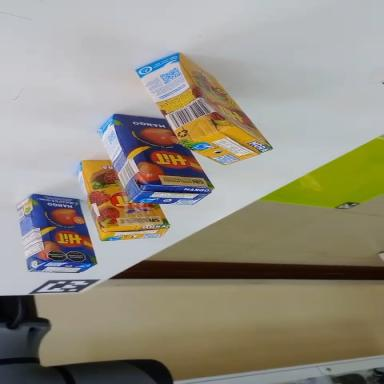HIT-MANGO: (88, 90, 216, 231), (13, 184, 98, 282)
HIT-MORA: (126, 34, 273, 191), (63, 140, 172, 263)
cara_F: (106, 89, 215, 217), (175, 44, 272, 158), (75, 139, 169, 250), (30, 184, 97, 276)
